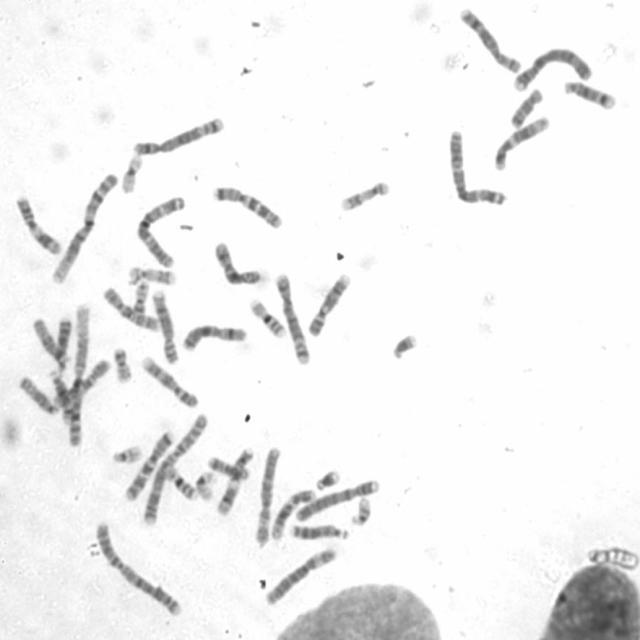A1: (48, 170, 120, 287), (67, 302, 92, 448)
A2: (94, 520, 184, 618), (140, 413, 208, 528)
A3: (446, 127, 510, 207), (136, 196, 186, 270)
B4: (512, 46, 595, 92), (294, 479, 380, 522)
B5: (133, 116, 226, 155), (274, 272, 310, 366)
C10: (52, 356, 110, 411), (102, 286, 162, 334)
C11: (14, 194, 64, 258), (216, 447, 254, 518)
C12: (493, 115, 551, 172), (270, 488, 317, 542)
C6: (264, 547, 338, 606), (254, 446, 281, 550)
C7: (124, 428, 174, 502), (211, 184, 285, 230)
C8: (460, 7, 522, 73), (151, 290, 180, 364)
C9: (142, 354, 202, 408), (307, 273, 352, 339)
D13: (49, 318, 75, 376), (289, 522, 350, 542)
D14: (562, 80, 619, 114), (48, 368, 74, 424)
D15: (32, 317, 67, 370), (16, 375, 60, 415)
E16: (248, 297, 288, 340), (159, 465, 197, 502)
E17: (338, 179, 392, 213), (127, 266, 178, 288)
E18: (507, 85, 546, 128), (206, 454, 252, 481)
F19: (119, 153, 144, 196), (193, 470, 219, 503)
F20: (112, 346, 133, 384), (131, 280, 151, 316)
G21: (390, 334, 418, 362), (314, 468, 342, 492)
G22: (112, 442, 144, 465), (349, 496, 373, 526)
X: (215, 241, 261, 288), (181, 322, 248, 352)
